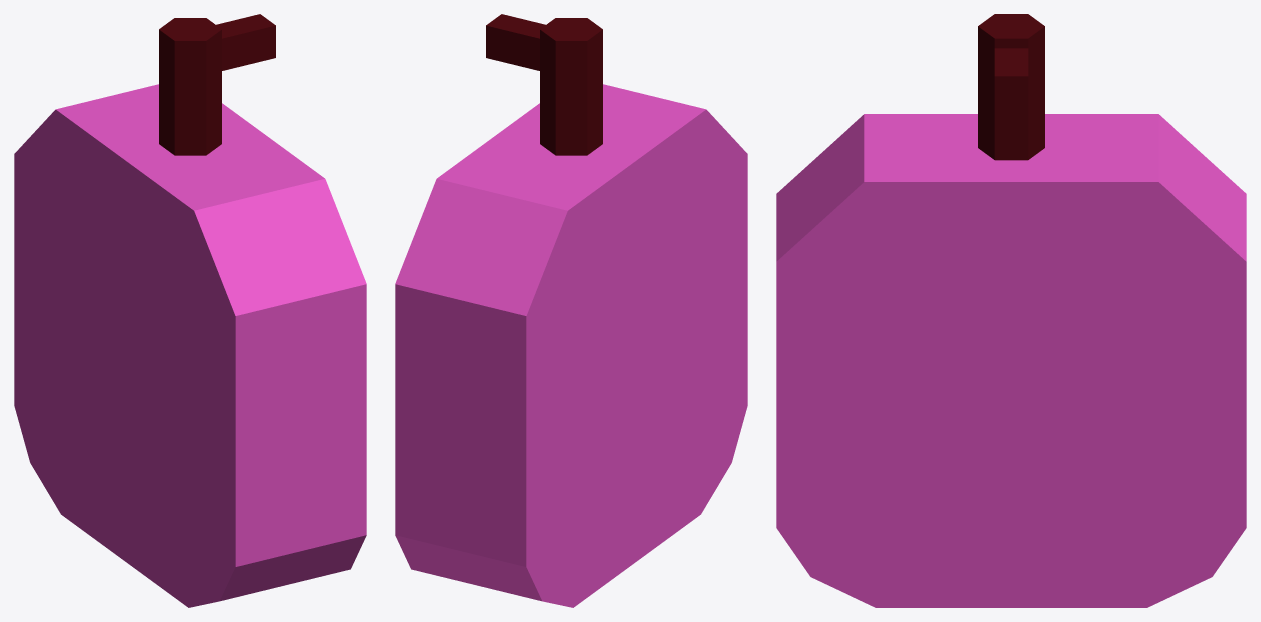
The model's file is Pheromones.fbx.
The picture shows the model from 3 angles, left to right: view 1: azimuth 30°, elevation 25°; view 2: azimuth 150°, elevation 25°; view 3: azimuth 270°, elevation 25°; orthographic projection. The views are drawn at different scales.
Visible parts, largest first — view 1: Cube.002, Cylinder.002; view 2: Cube.002, Cylinder.002; view 3: Cube.002, Cylinder.002.
Part boxes in pixels (x1,y1,x2,y2): Cube.002: (14,84,366,607); Cylinder.002: (159,14,275,155); Cube.002: (395,84,747,607); Cylinder.002: (486,14,602,155); Cube.002: (776,114,1246,607); Cylinder.002: (978,14,1044,160).
Size of the model in its own units: 74.75 by 257 by 200.
